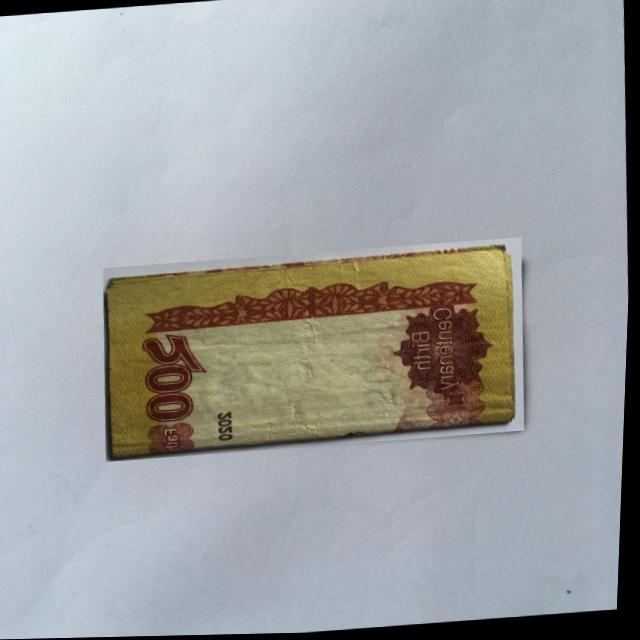Taka: (99, 240, 534, 462)
